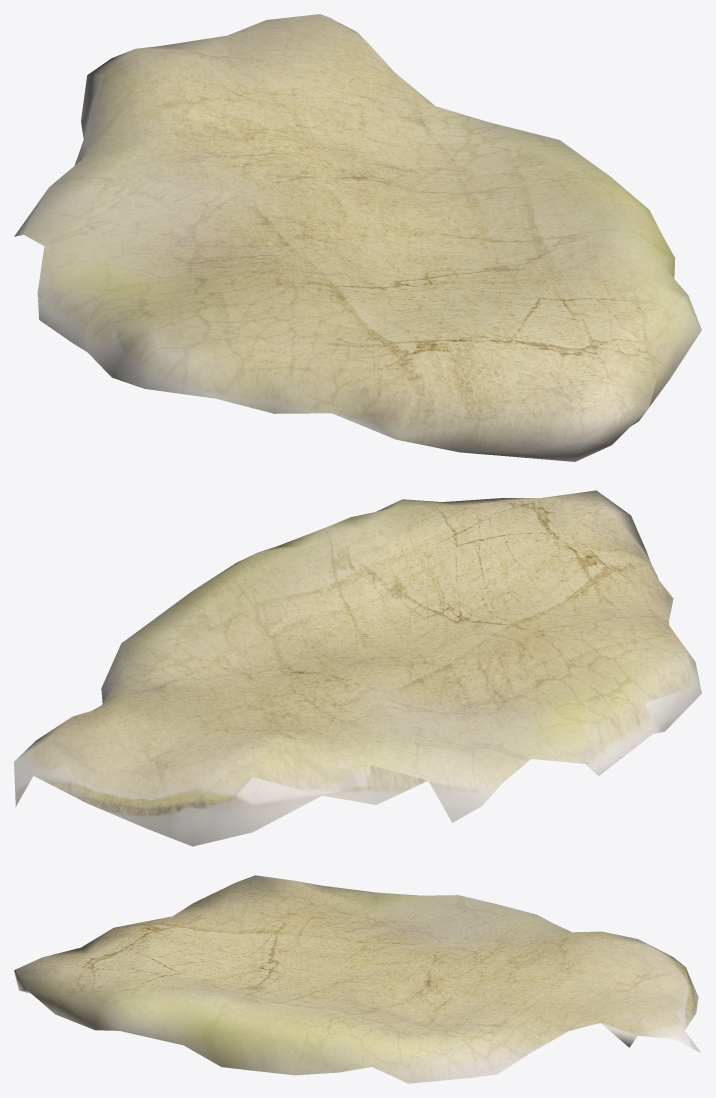
File: floor.gltf
3 views of the same model, one above another, from view 1: azimuth 30°, elevation 25°; view 2: azimuth 150°, elevation 25°; view 3: azimuth 270°, elevation 25° (orthographic). The views are drawn at different scales.
Visible parts, largest first — view 1: Ground1; view 2: Ground1; view 3: Ground1.
Boxes of the visible parts, x1,y1,x2,y2 form: Ground1: (14,14,701,461); Ground1: (14,490,701,846); Ground1: (14,875,701,1083).
Bounding box in the file's own units: 0.296 × 0.0432 × 0.4612.
Materials: 1 (1 with a texture image).
